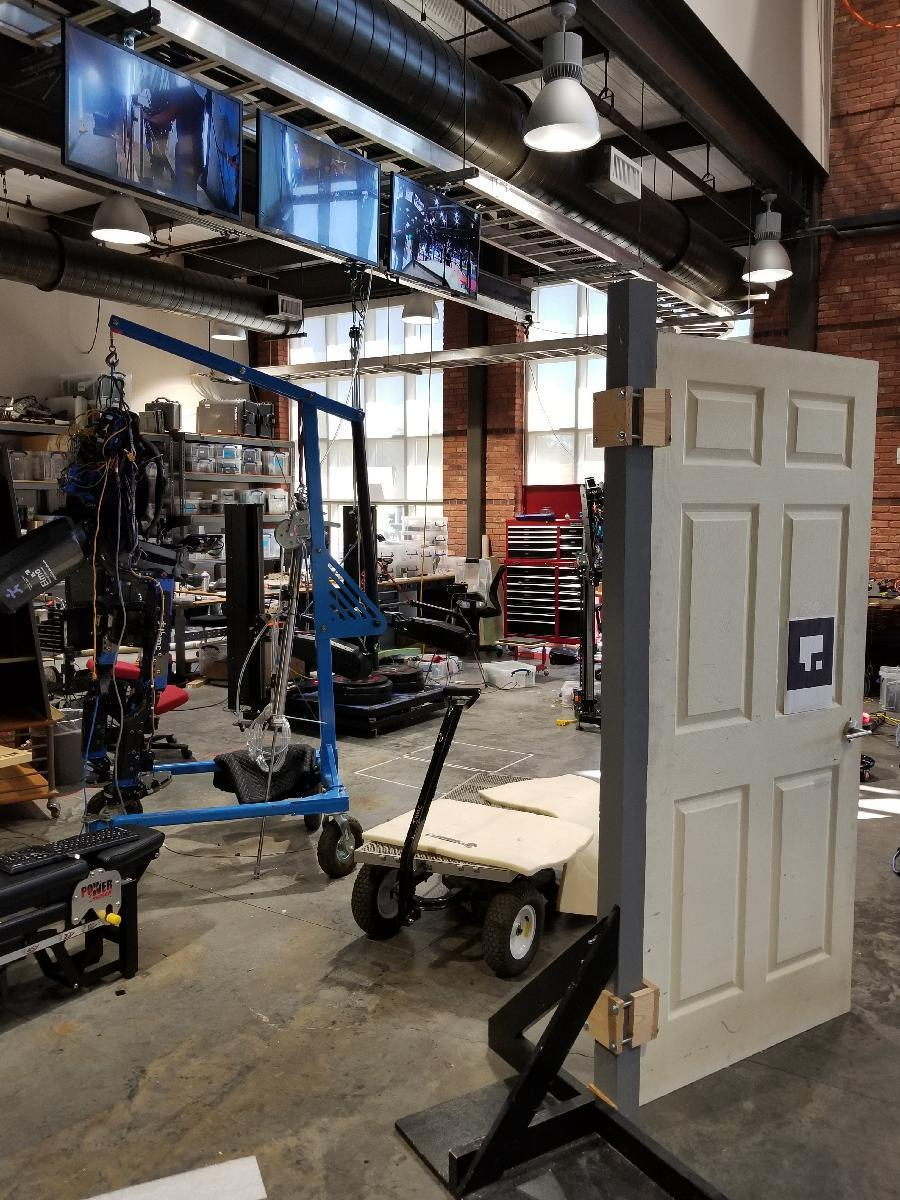door: (637, 327, 880, 1098)
handle: (839, 715, 875, 748)
